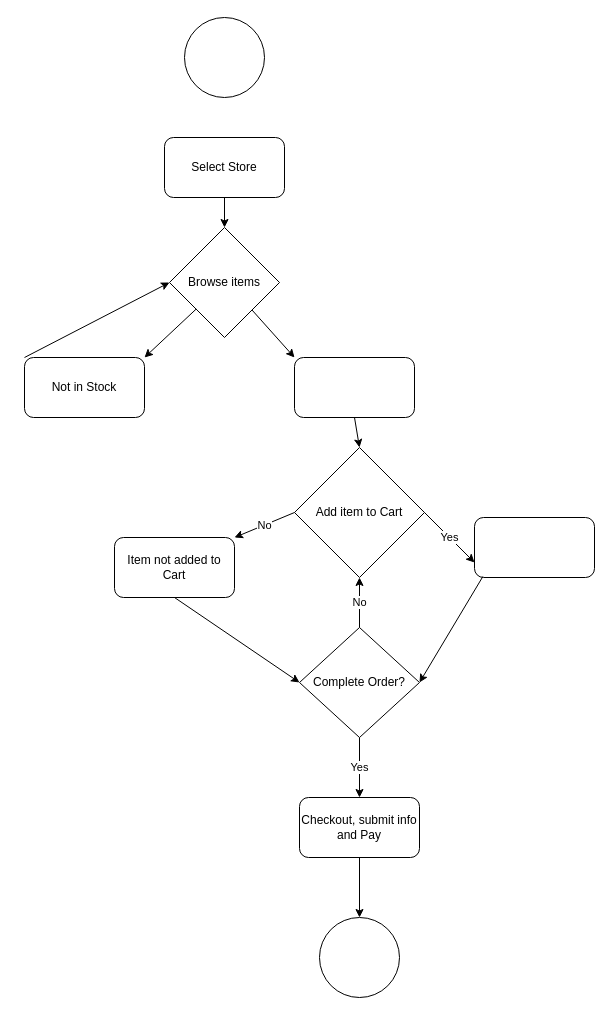
Image size: 612x1015. Some labels were removed from this diagram. Here are the shapes that lost their labels. From the top down, the box of each, then its label:
(184, 16, 264, 98): Start
(294, 356, 414, 418): In Stock
(474, 516, 594, 578): Item added to Cart
(318, 916, 400, 998): Finish
